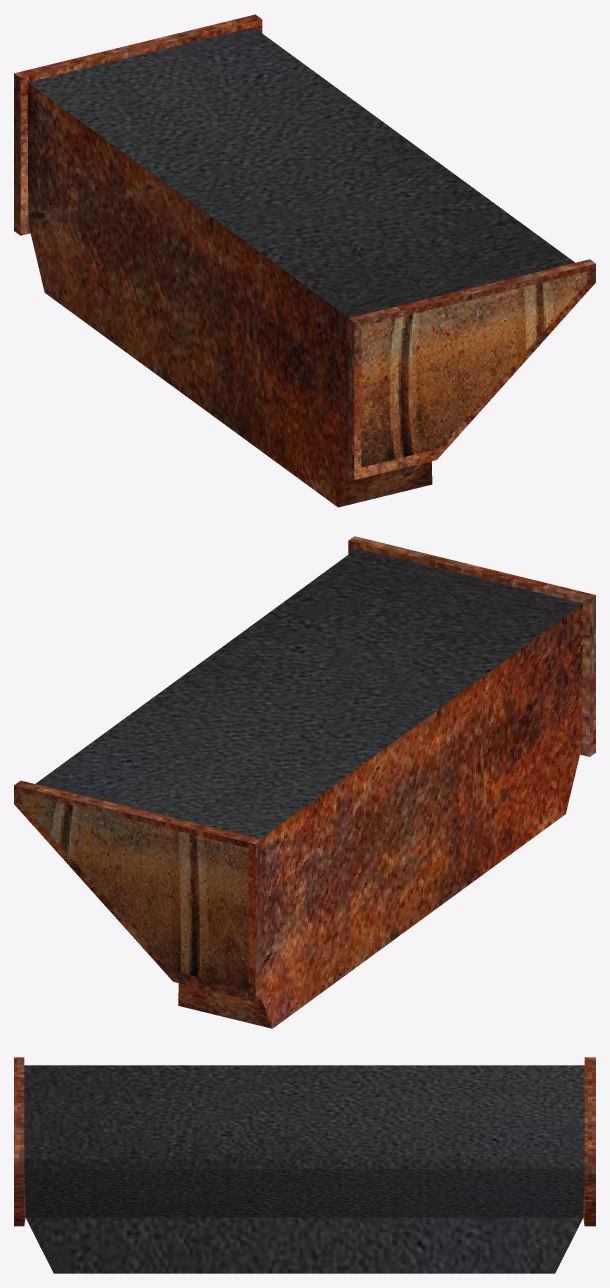
The model's file is basetable (1).glb.
3 views of the same model, one above another, from view 1: azimuth 30°, elevation 25°; view 2: azimuth 150°, elevation 25°; view 3: azimuth 270°, elevation 25° (orthographic). The views are drawn at different scales.
Visible parts, largest first — view 1: table; view 2: table; view 3: table.
Boxes of the visible parts, x1=… form: table: x1=14, y1=14, x2=595, y2=507; table: x1=14, y1=536, x2=595, y2=1028; table: x1=14, y1=1057, x2=595, y2=1273.
Size of the model in its own units: 2 by 1.61 by 4.89.
1 material, 1 textured.
